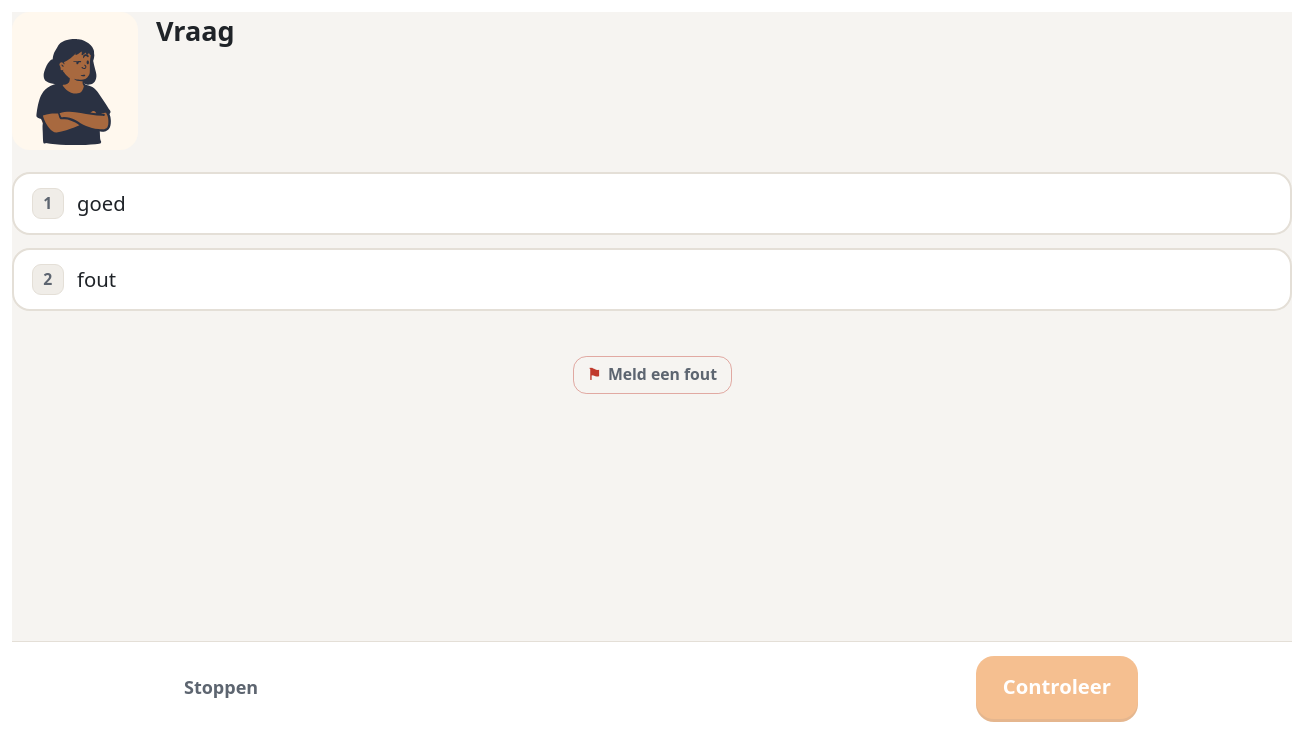
Test: checking an answer › saves the answer right away with item, type, result and answer, then shows the explanation
Click the button "1 goed": {"x": 48, "y": 203} [12,172,1292,235]
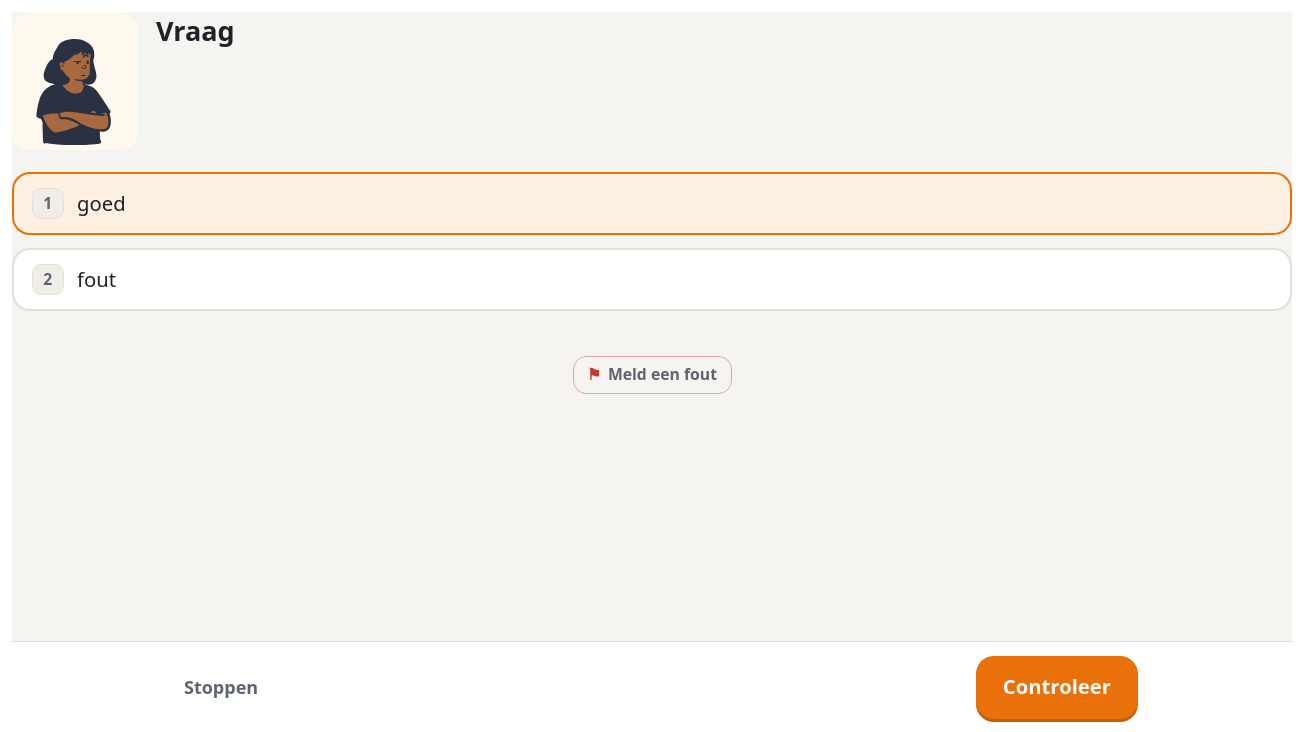
Click the button "Controleer": {"x": 1057, "y": 687} [976,656,1138,718]
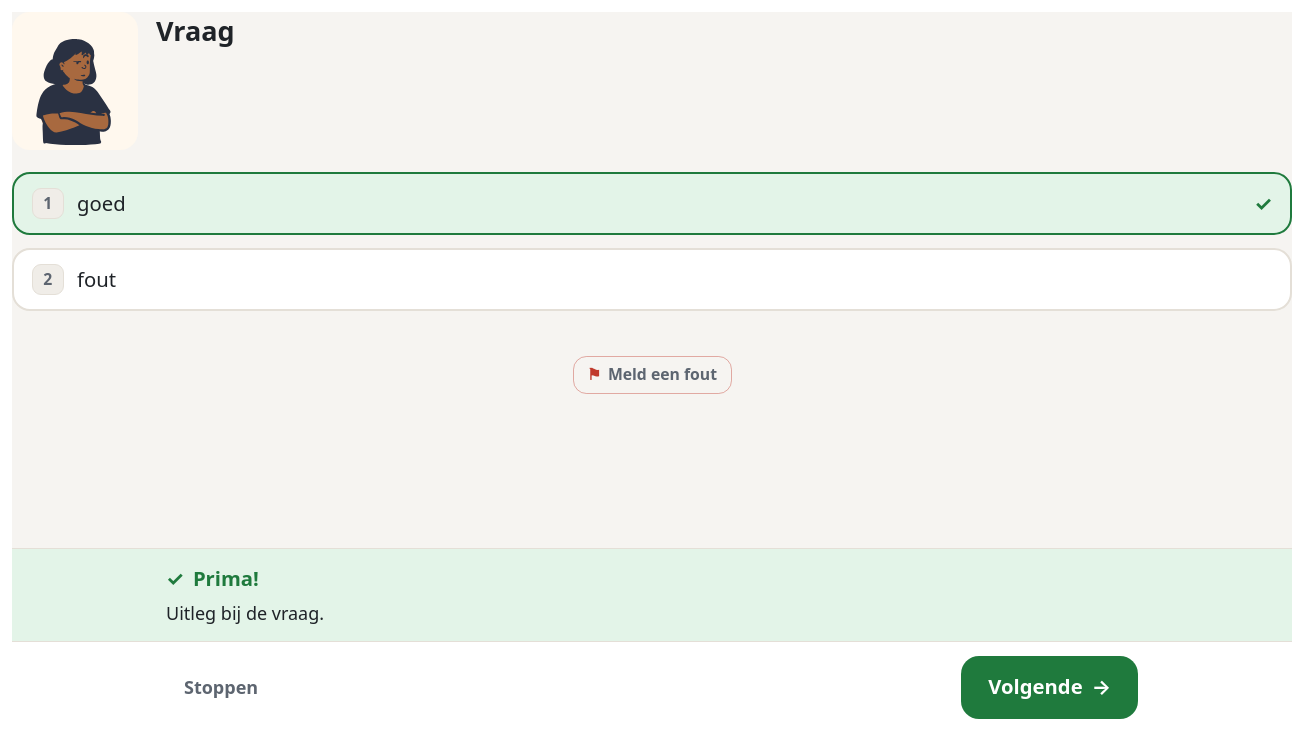
Now the message "✓ Prima! Uitleg bij de vraag." is shown, box [12,549,1292,642]
